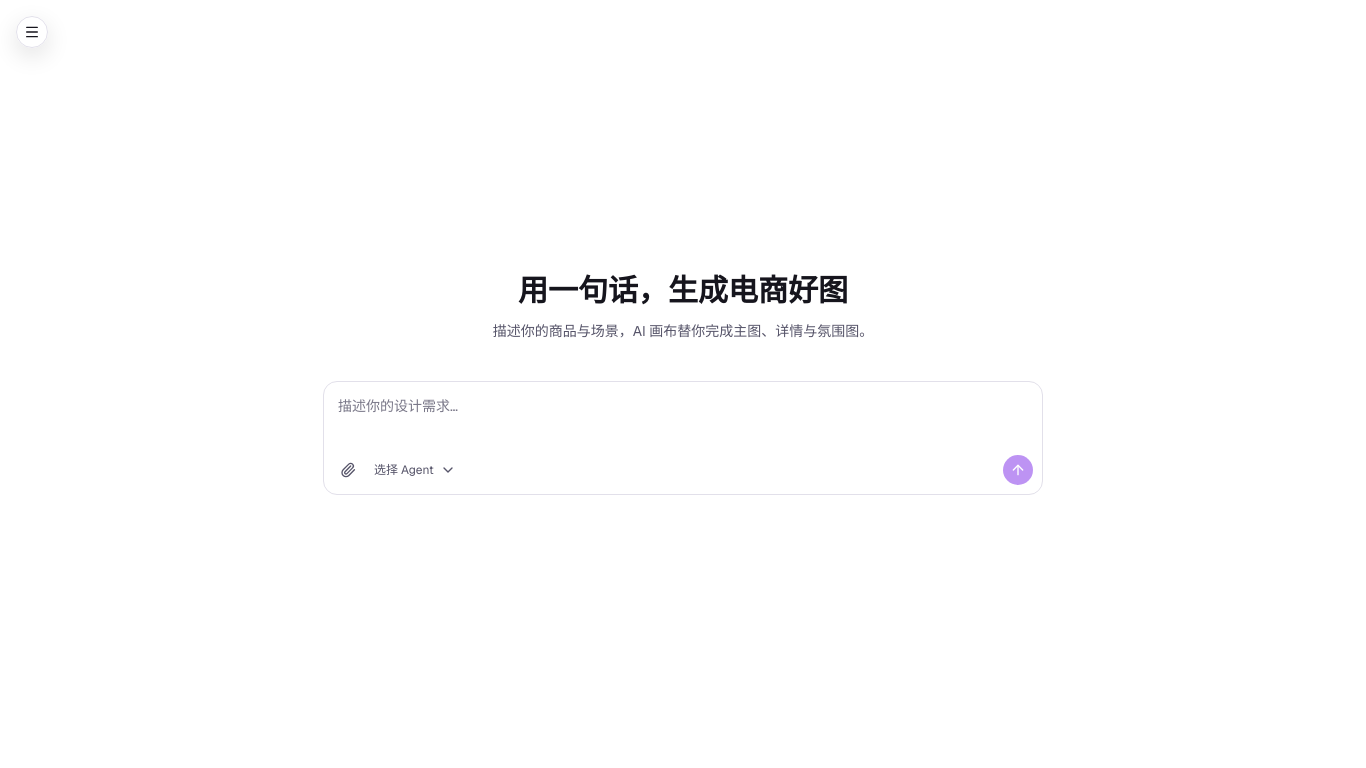
it: 窄屏（<768px）侧栏 › 侧栏离开文档流，浮动按钮唤出覆盖抽屉
This screenshot has width=1366, height=768.
Click the button with test id "sidebar-open-button" at (32, 32), box top-left (16, 16), bottom-right (48, 48)
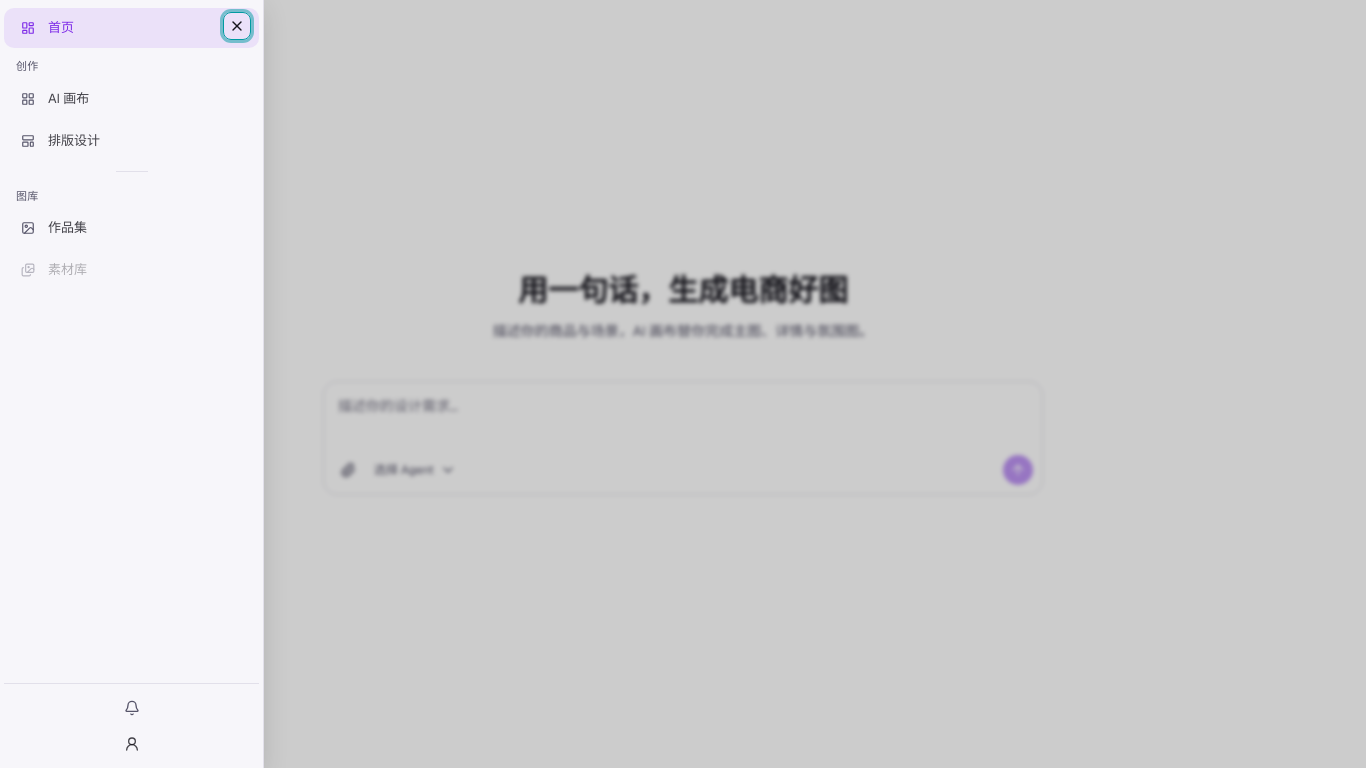
Now the button with test id "nav-home" is shown, box top-left (4, 8), bottom-right (259, 48)
Press Escape
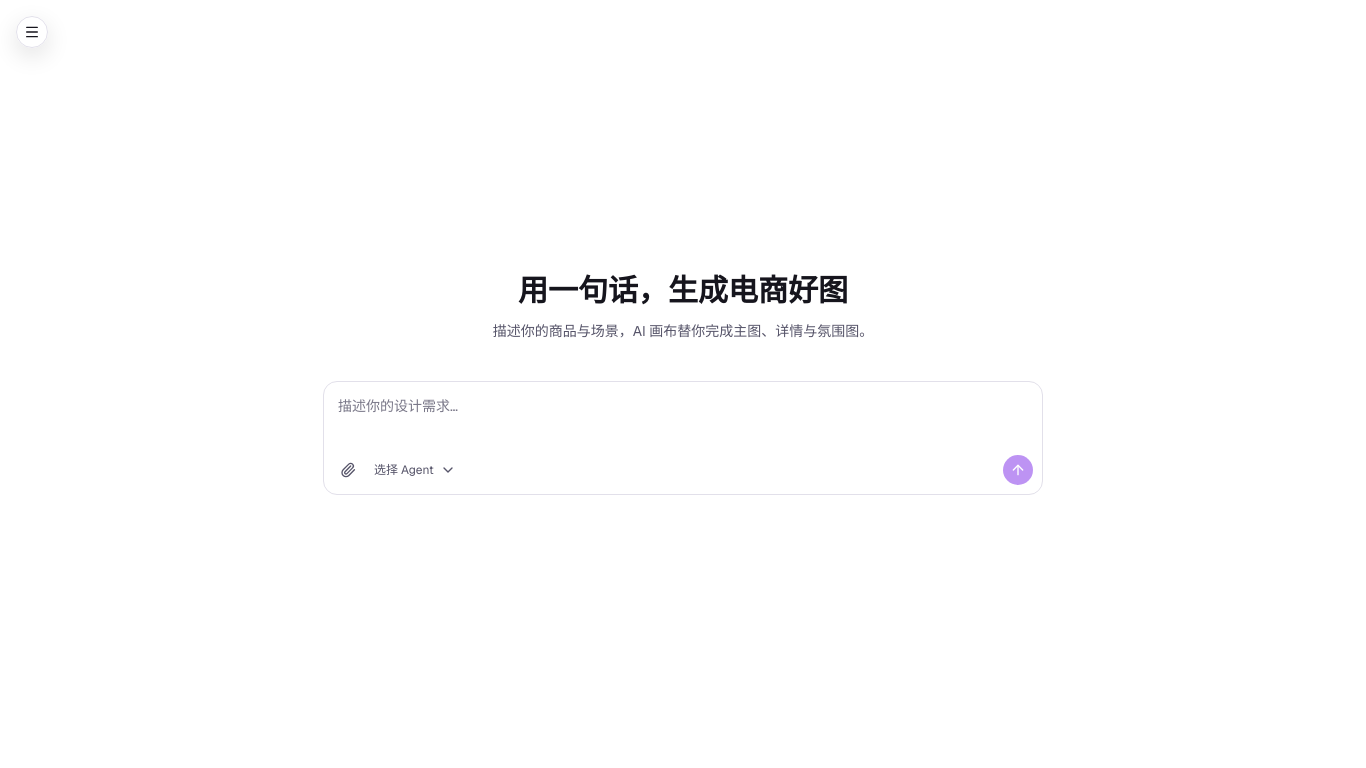
Now the button with test id "nav-home" is gone
